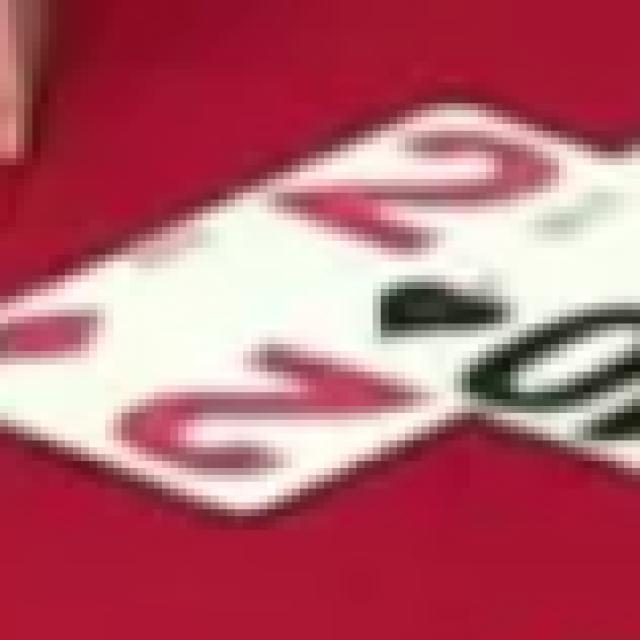Card-10: (327, 158, 639, 472)
Card-2: (0, 95, 612, 518)
